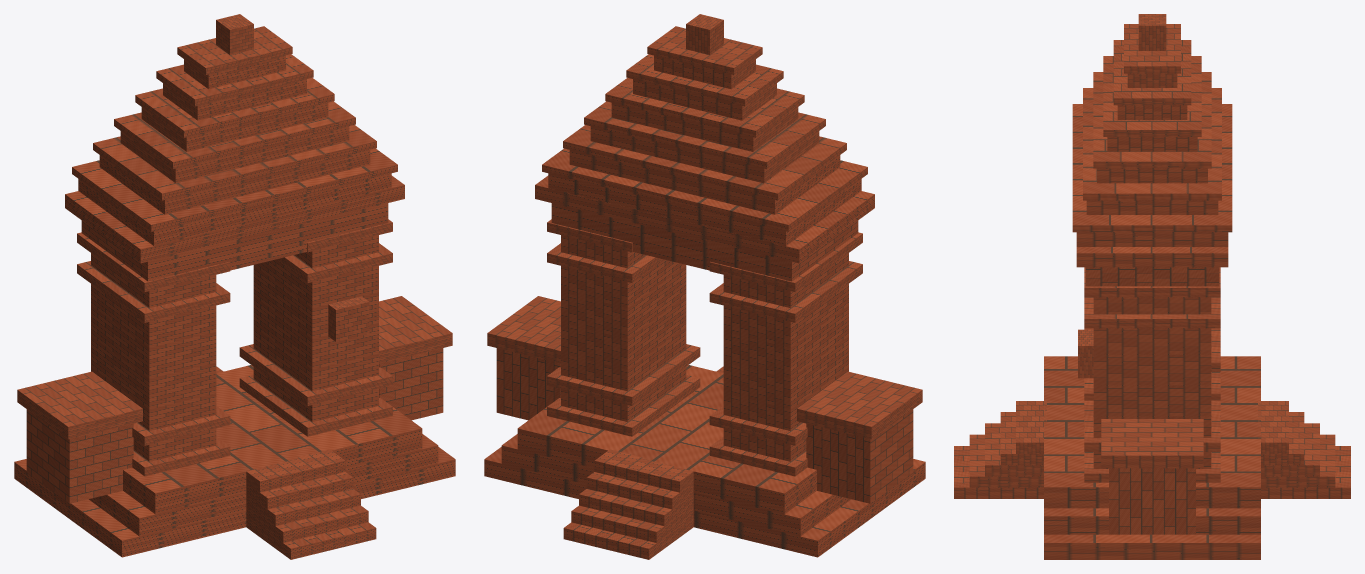
The model's file is mymodel.obj.
3 renders of one model, left to right at view 1: azimuth 30°, elevation 25°; view 2: azimuth 150°, elevation 25°; view 3: azimuth 270°, elevation 25°, orthographic.
Visible parts, largest first — view 1: BajangRatu_Blockout; view 2: BajangRatu_Blockout; view 3: BajangRatu_Blockout.
Boxes of the visible parts, bbox=[...] form: BajangRatu_Blockout: bbox=[14, 14, 455, 559]; BajangRatu_Blockout: bbox=[484, 14, 925, 559]; BajangRatu_Blockout: bbox=[954, 14, 1350, 559].
Bounding box in the file's own units: 2.88 × 3.26 × 2.56.
1 material, 1 textured.
